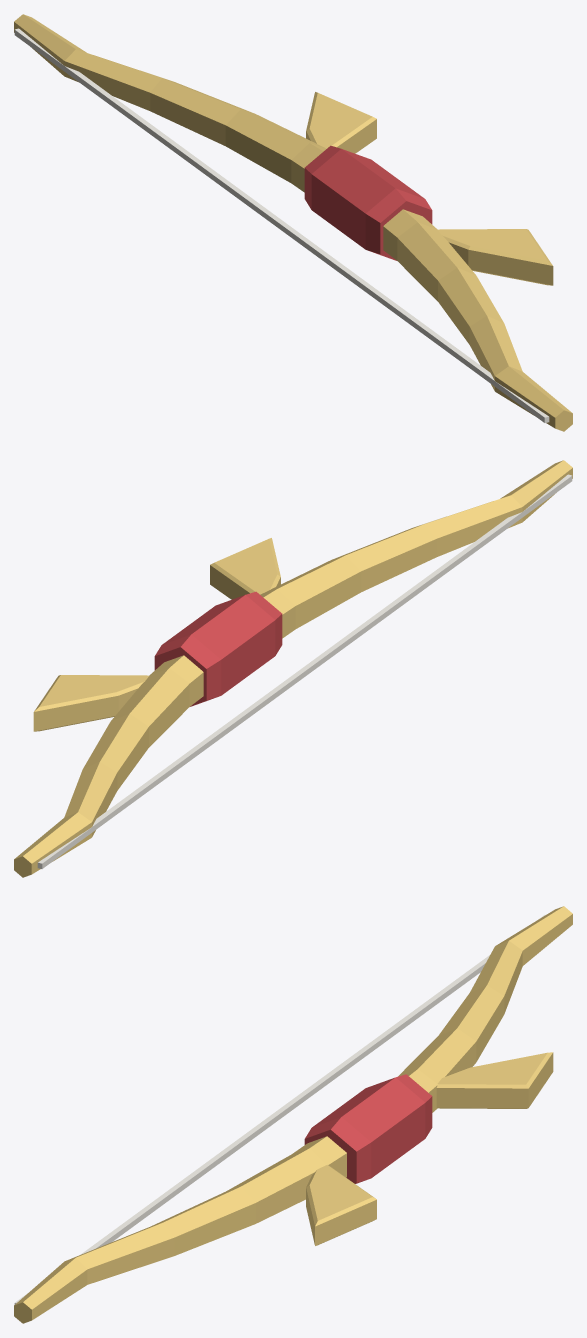
The model's file is gildedbow.glb.
3 renders of one model, top to bottom at view 1: azimuth 30°, elevation 25°; view 2: azimuth 150°, elevation 25°; view 3: azimuth 330°, elevation 25°, orthographic.
Visible parts, largest first — view 1: gildedbow; view 2: gildedbow; view 3: gildedbow.
Boxes of the visible parts, x1,y1,x2,y2 form: gildedbow: [14, 14, 572, 431]; gildedbow: [14, 460, 572, 877]; gildedbow: [14, 906, 572, 1323].
Size of the model in its own units: 0.1848 by 0.0736 by 1.
